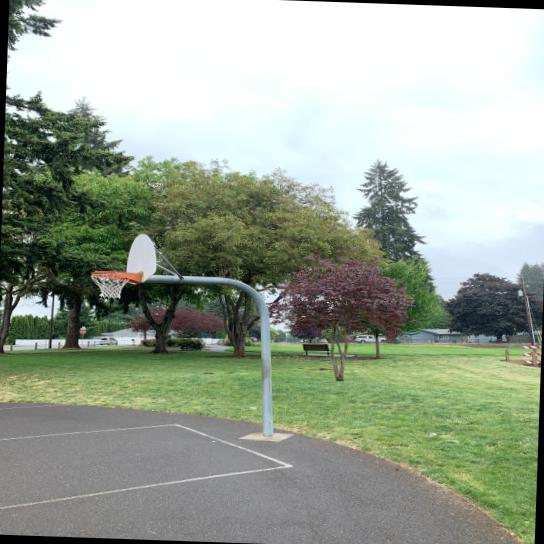basketball-hoop: (86, 269, 132, 301)
